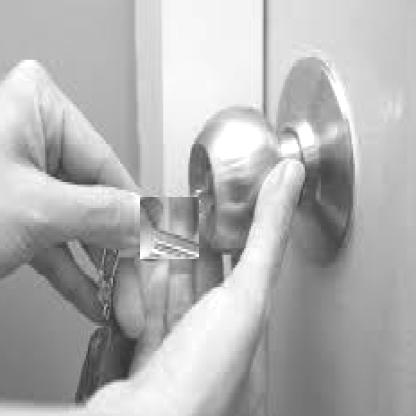key: (140, 198, 199, 259)
